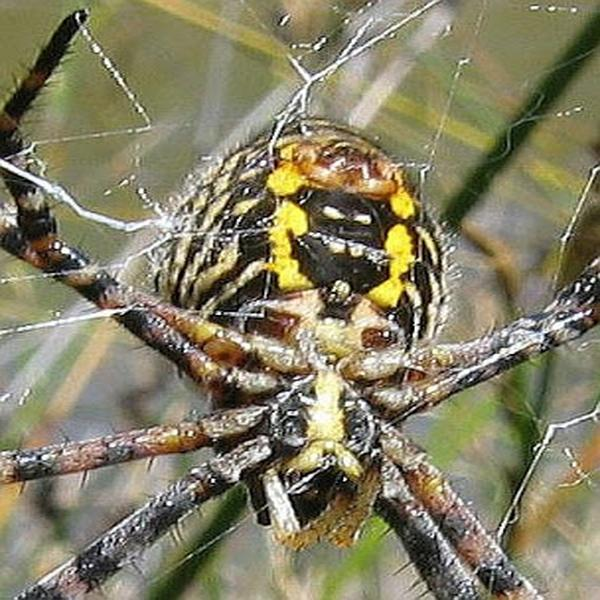Garden Orb Weaver Spider: (22, 82, 600, 597)
